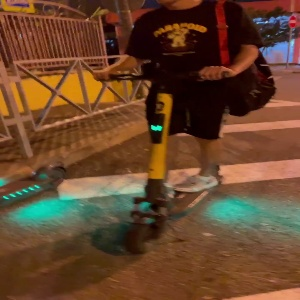human on a scooter: (92, 1, 278, 258)
